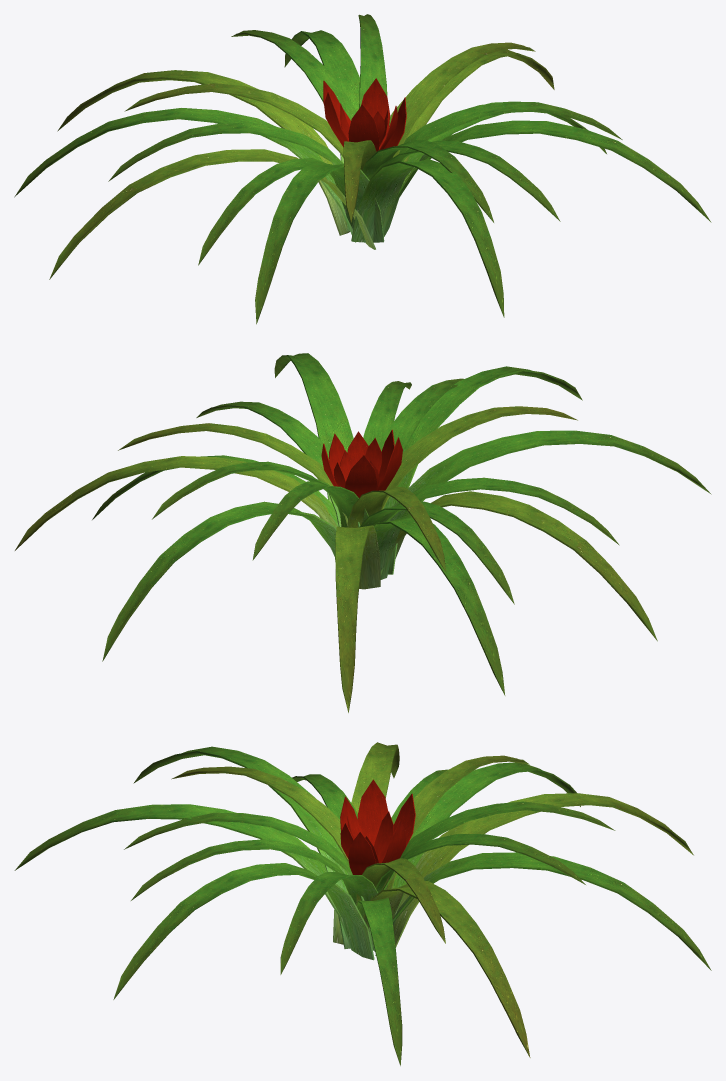
Rendered from Bromeliad4.fbx.
3 renders of one model, top to bottom at view 1: azimuth 30°, elevation 25°; view 2: azimuth 150°, elevation 25°; view 3: azimuth 270°, elevation 25°, orthographic.
Parts seen in each view (by area): view 1: Bromeliad4; view 2: Bromeliad4; view 3: Bromeliad4.
Part boxes in pixels (<box>): Bromeliad4: <box>14,14,711,324</box>; Bromeliad4: <box>15,353,711,712</box>; Bromeliad4: <box>14,742,711,1065</box>.
Size of the model in its own units: 66.76 by 17.02 by 70.4.
1 material, 1 textured.
